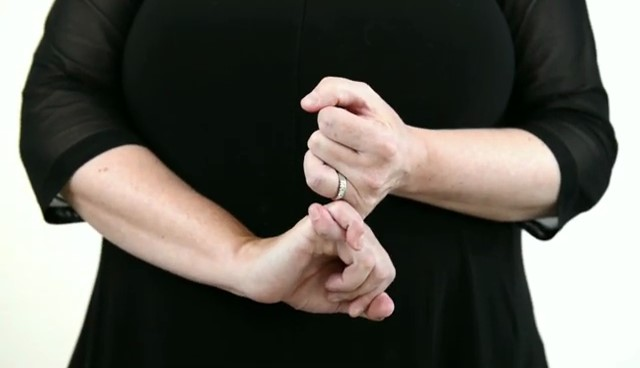S: (242, 70, 407, 330)
